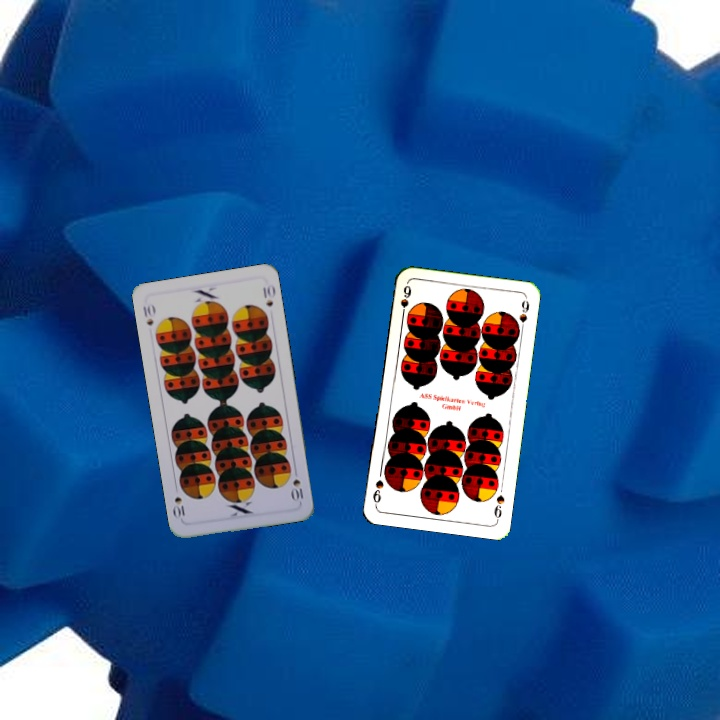S10: (288, 464, 307, 505), (139, 300, 157, 328)
S9: (396, 281, 414, 321), (490, 491, 507, 524)
